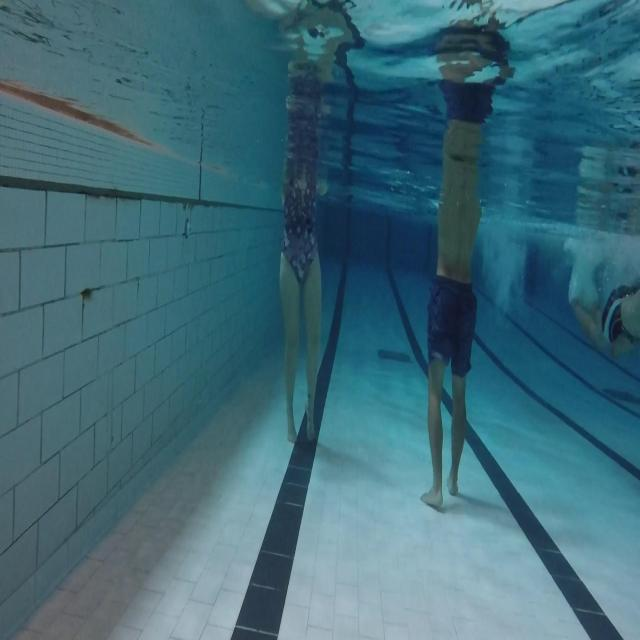human: (419, 13, 515, 510), (278, 35, 328, 444), (563, 232, 639, 359)
